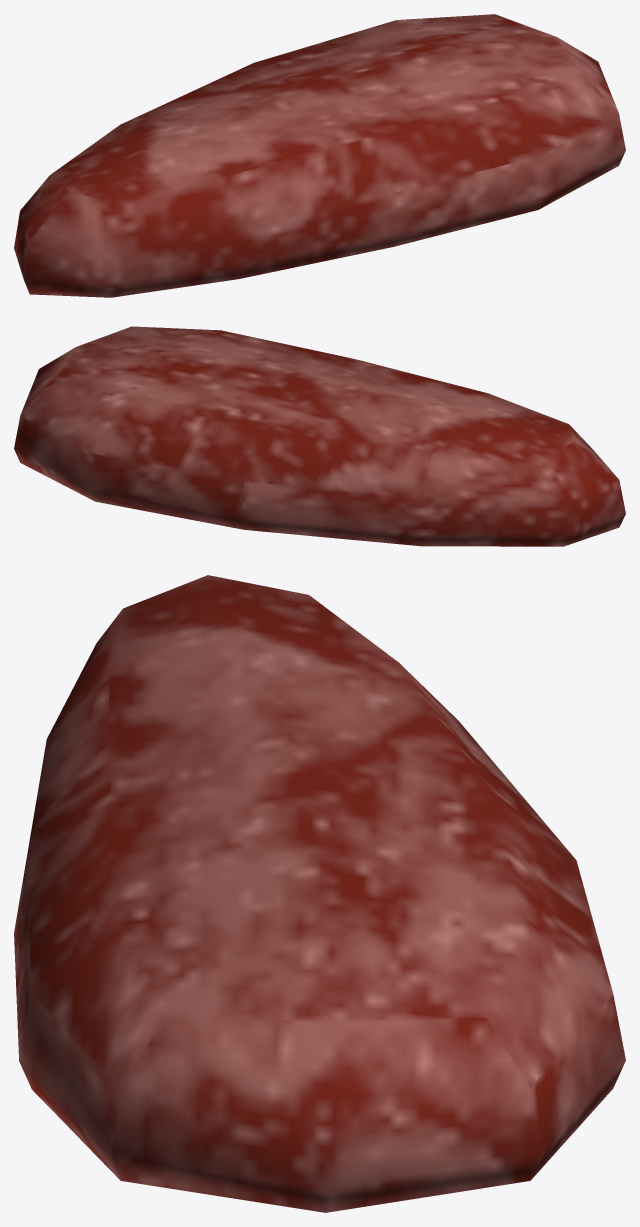
Rendered from Meat.fbx.
3 views of the same model, one above another, from view 1: azimuth 30°, elevation 25°; view 2: azimuth 150°, elevation 25°; view 3: azimuth 270°, elevation 25° (orthographic). The views are drawn at different scales.
Parts seen in each view (by area): view 1: RawMeat; view 2: RawMeat; view 3: RawMeat.
Part boxes in pixels (left/top/right/bottom): RawMeat: left=14, top=14, right=625, bottom=297; RawMeat: left=14, top=326, right=625, bottom=546; RawMeat: left=14, top=575, right=625, bottom=1212.
Bounding box in the file's own units: 14.75 × 2.51 × 7.1.
1 material, 1 textured.
